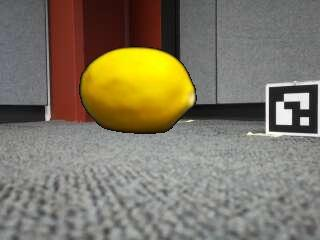lemon: (80, 49, 194, 134)
